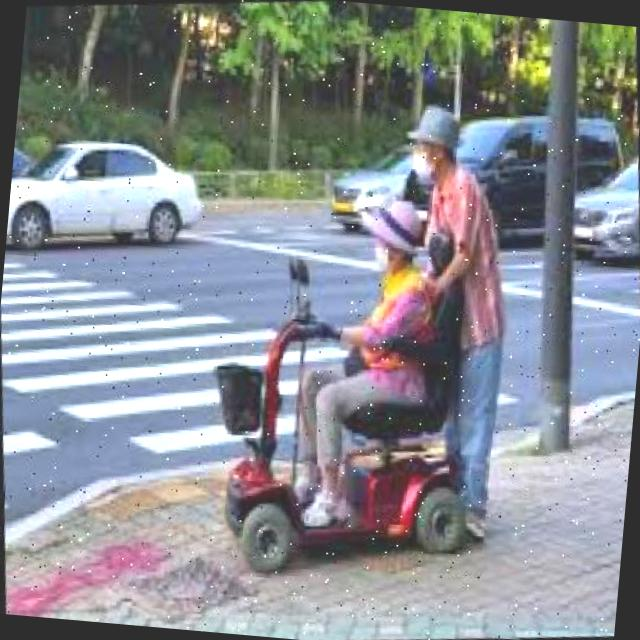Person: (184, 180, 497, 589), (366, 92, 542, 554)
